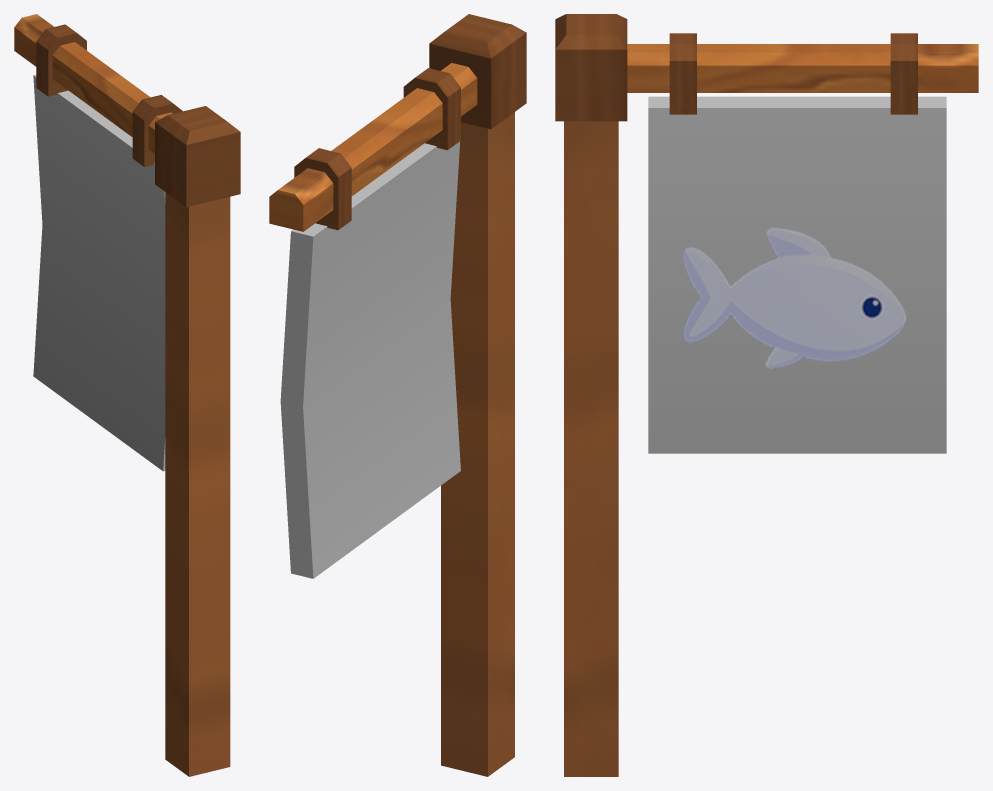
Rendered from Flag01.fbx.
The picture shows the model from 3 angles, left to right: view 1: azimuth 30°, elevation 25°; view 2: azimuth 150°, elevation 25°; view 3: azimuth 270°, elevation 25°; orthographic projection. The views are drawn at different scales.
Visible parts, largest first — view 1: Flag01; view 2: Flag01; view 3: Flag01.
Boxes of the visible parts, x1,y1,x2,y2 form: Flag01: (14,14,240,776); Flag01: (269,14,526,776); Flag01: (555,14,978,776).
Bounding box in the file's own units: 0.3595 × 4.08 × 2.11.
